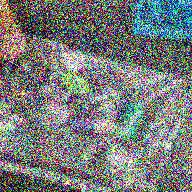러키펜정: (61, 52, 87, 71)
씨엠지세파클러캡슐: (70, 116, 116, 133)
에르도캡슐: (117, 103, 146, 141)
휴티렌정: (59, 73, 91, 96)
